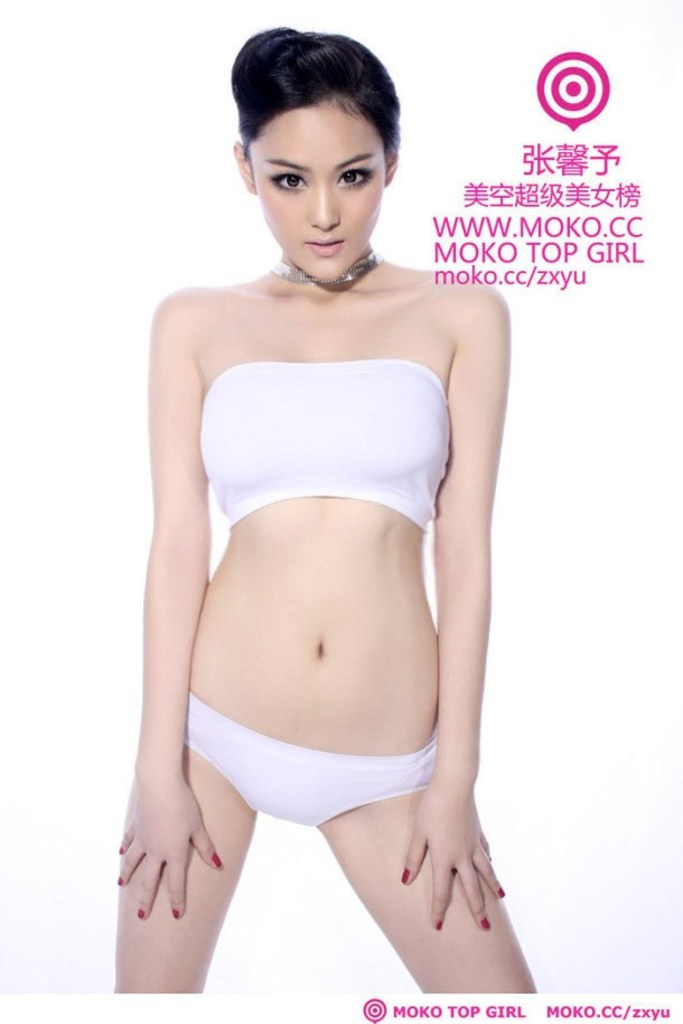Human_hand: (118, 756, 223, 918), (398, 778, 505, 931)
